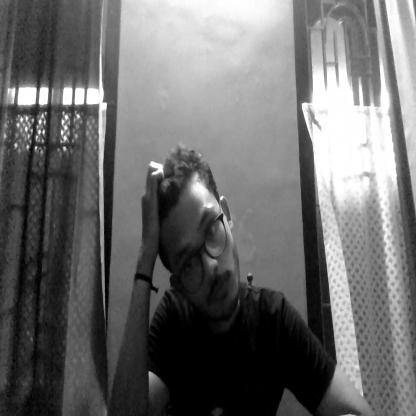Distracted: (149, 137, 252, 315)
